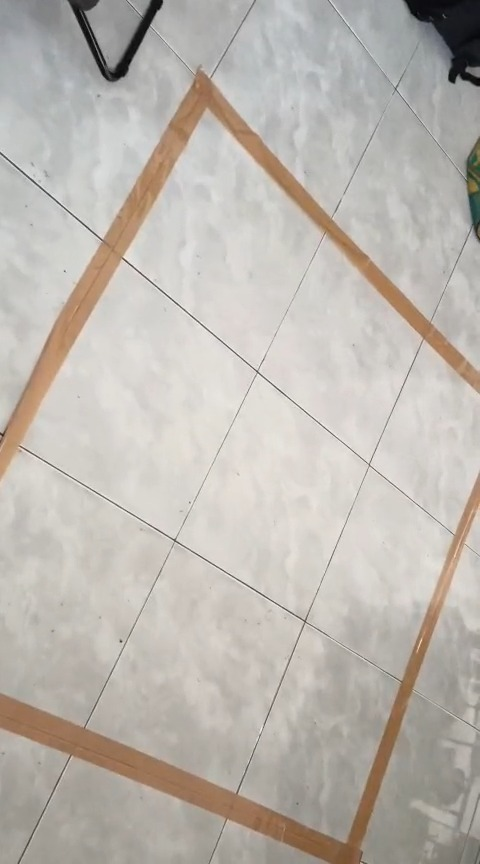floor marking: (0, 71, 479, 479), (0, 473, 479, 863)
